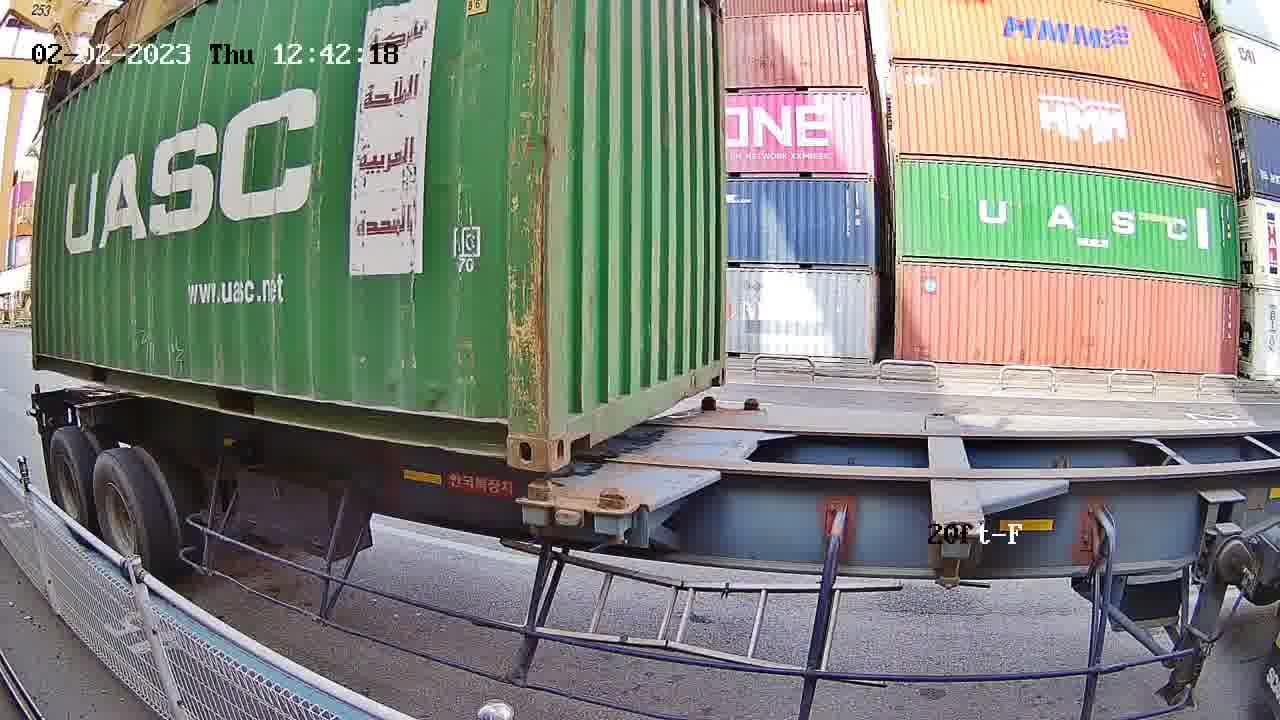Chassis: (521, 407, 718, 508), (591, 410, 764, 516)
Cone: (523, 478, 553, 543), (598, 485, 627, 549), (697, 396, 720, 414), (739, 397, 760, 413)
Hole_L: (548, 375, 603, 475)
Hole_R: (463, 388, 550, 474), (703, 341, 727, 388)
Tire: (93, 453, 153, 584), (48, 430, 94, 549)
